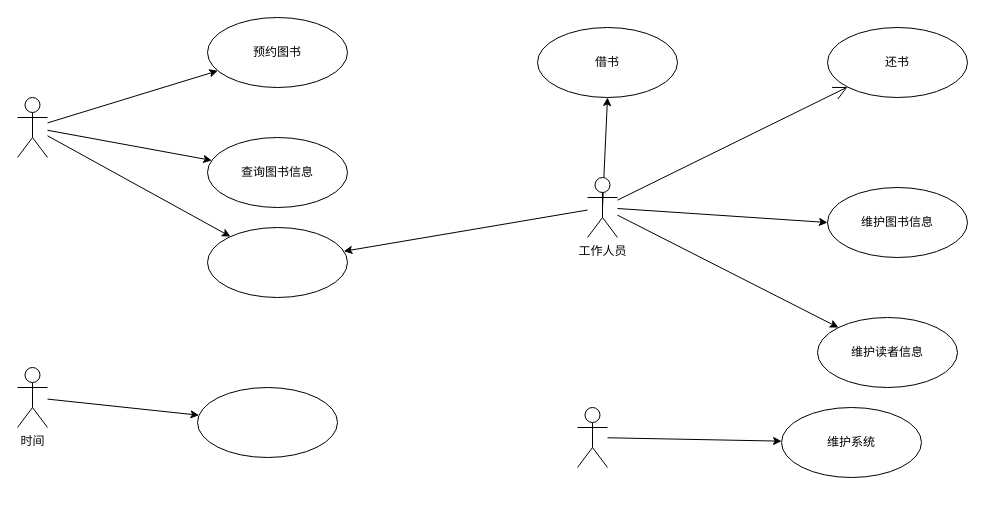
Image size: 985x506. Some labels were removed from this diagram. Each missing label, with the centre of its shape:
发送催还信息: point (267, 422)
查阅借阅信息: point (277, 262)
管理员: point (592, 437)
读者: point (32, 127)
